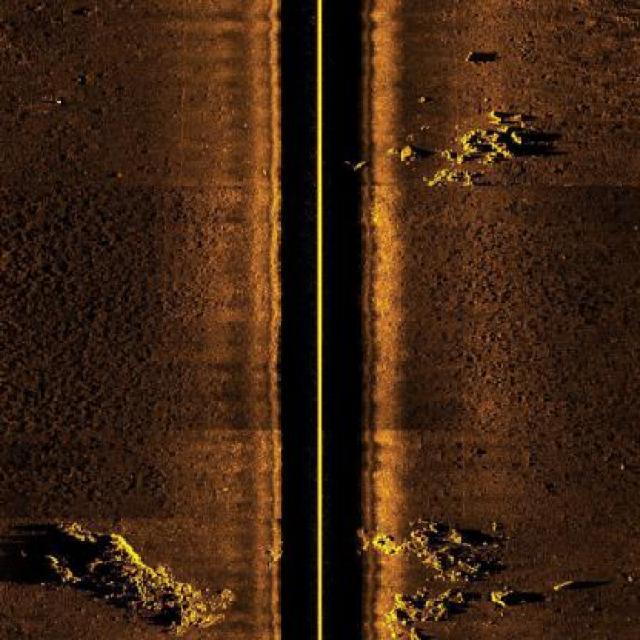mine: (552, 577, 612, 592), (462, 48, 500, 67), (492, 105, 526, 126), (351, 156, 374, 173)
